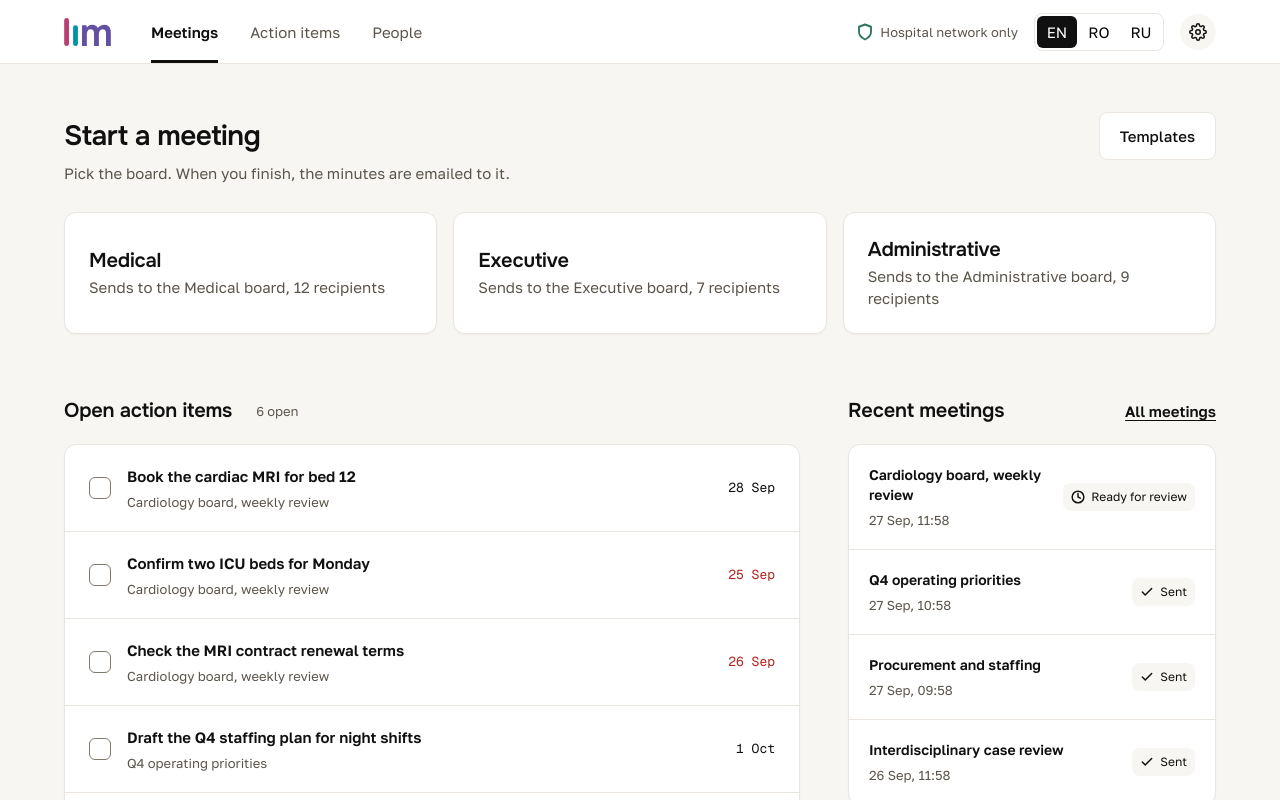
application flows › reaches Administration and System from the top bar menu
Expected: the heading "Start a meeting" is shown, left=64, top=119, right=260, bottom=153
Click the button named "Administration" at (1198, 32), box left=1180, top=14, right=1216, bottom=50
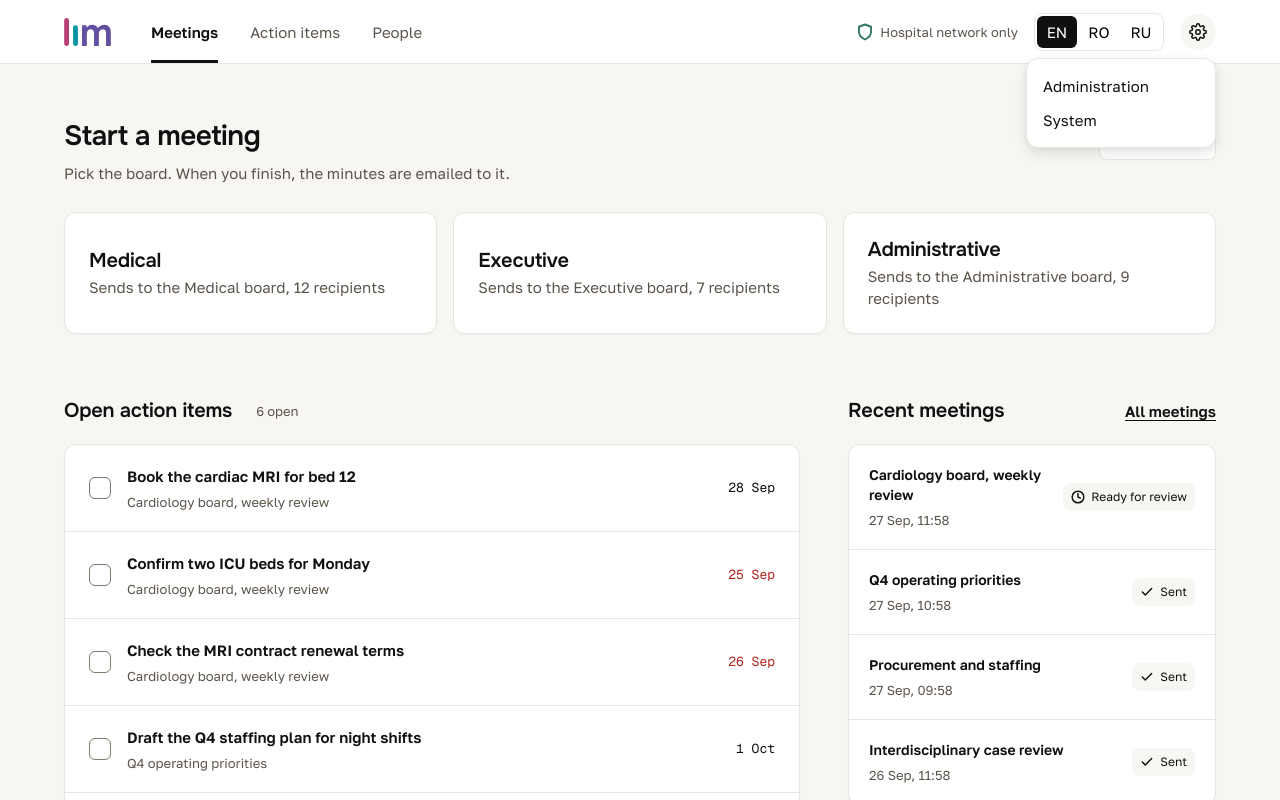
Click the link "System" at (1070, 120), box left=1043, top=110, right=1097, bottom=128
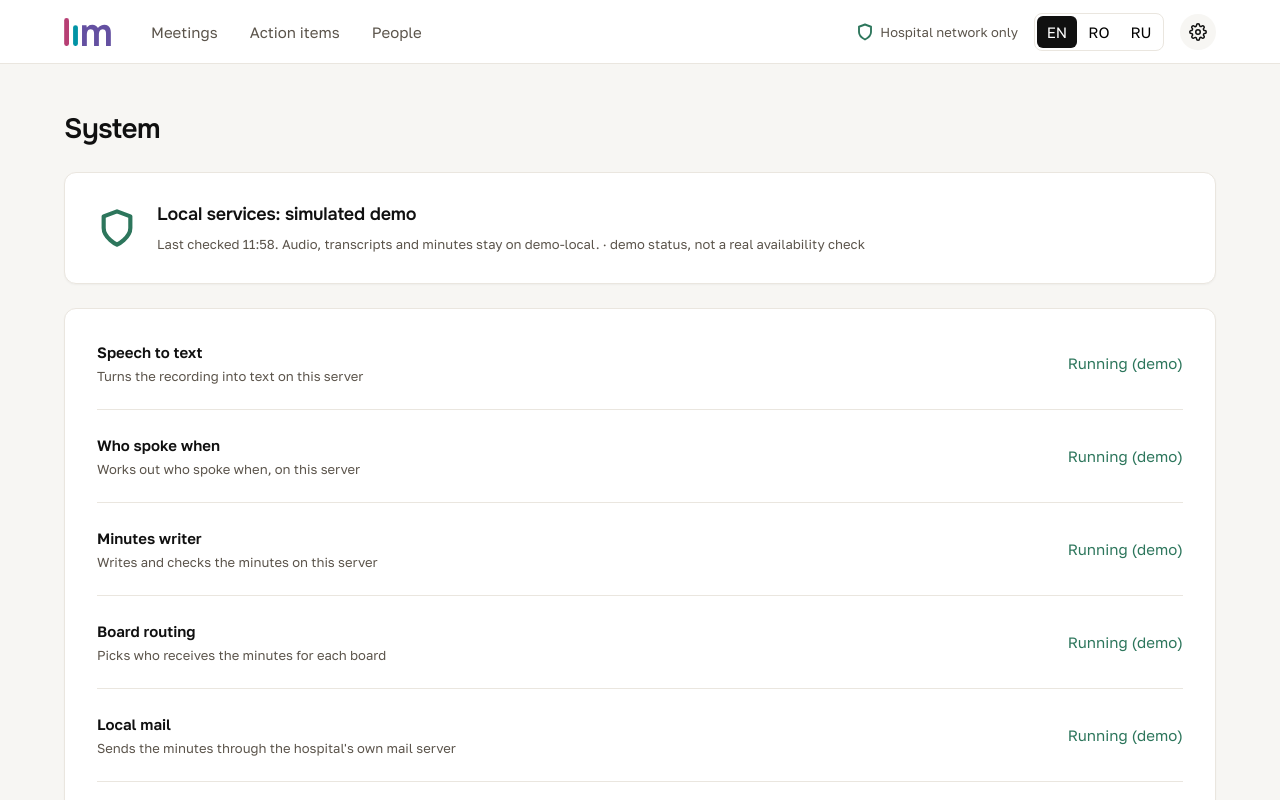
Now the heading "System" is shown, box left=64, top=111, right=160, bottom=147
Click the button named "Administration" at (1198, 32), box left=1180, top=14, right=1216, bottom=50
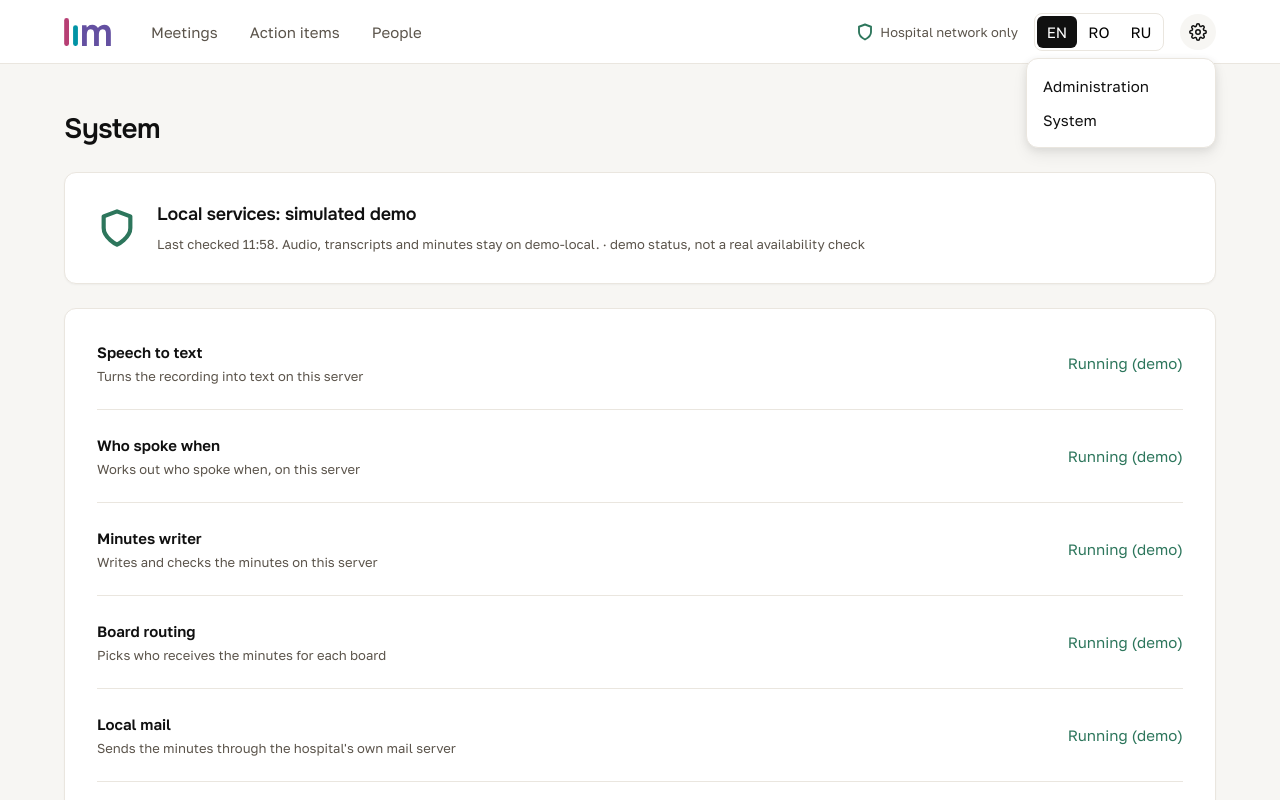
Click the link "Administration" at (1096, 86), box left=1043, top=76, right=1149, bottom=94
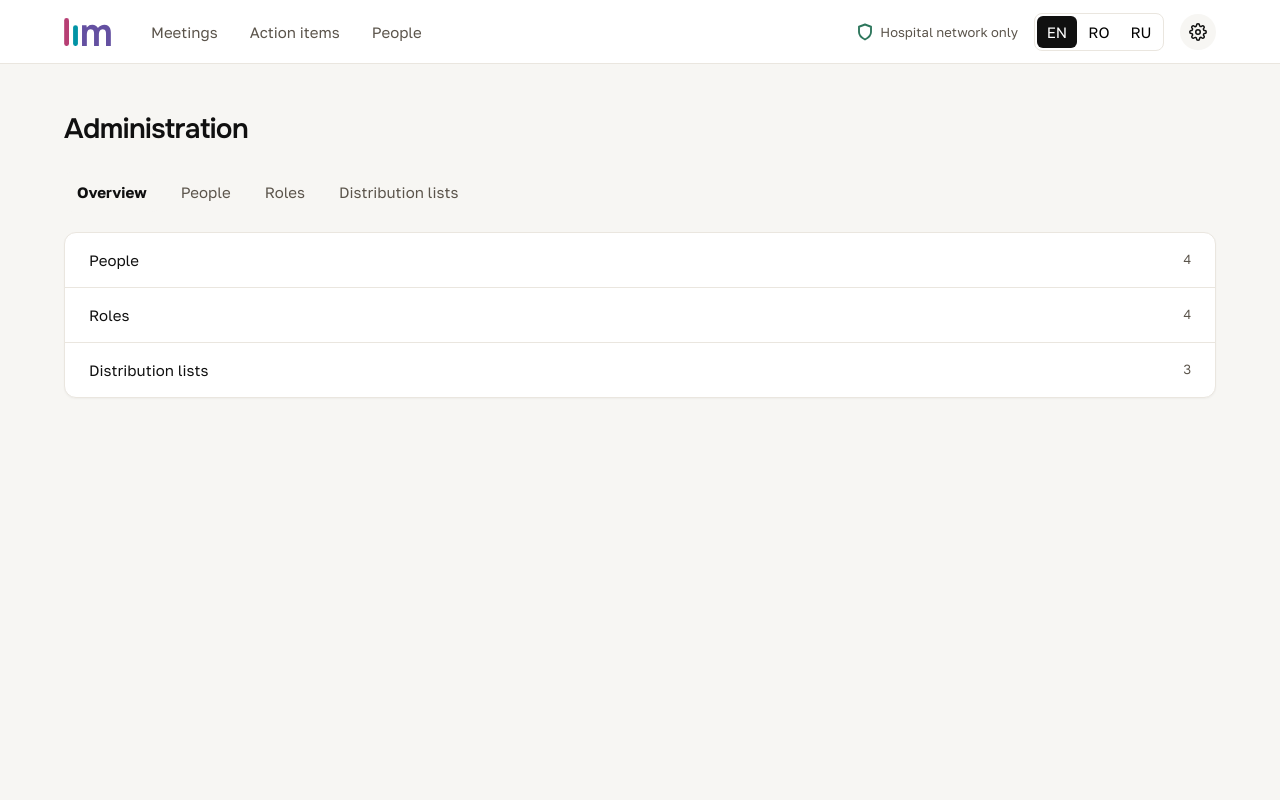
Now the heading "Administration" is shown, box left=64, top=111, right=248, bottom=147
